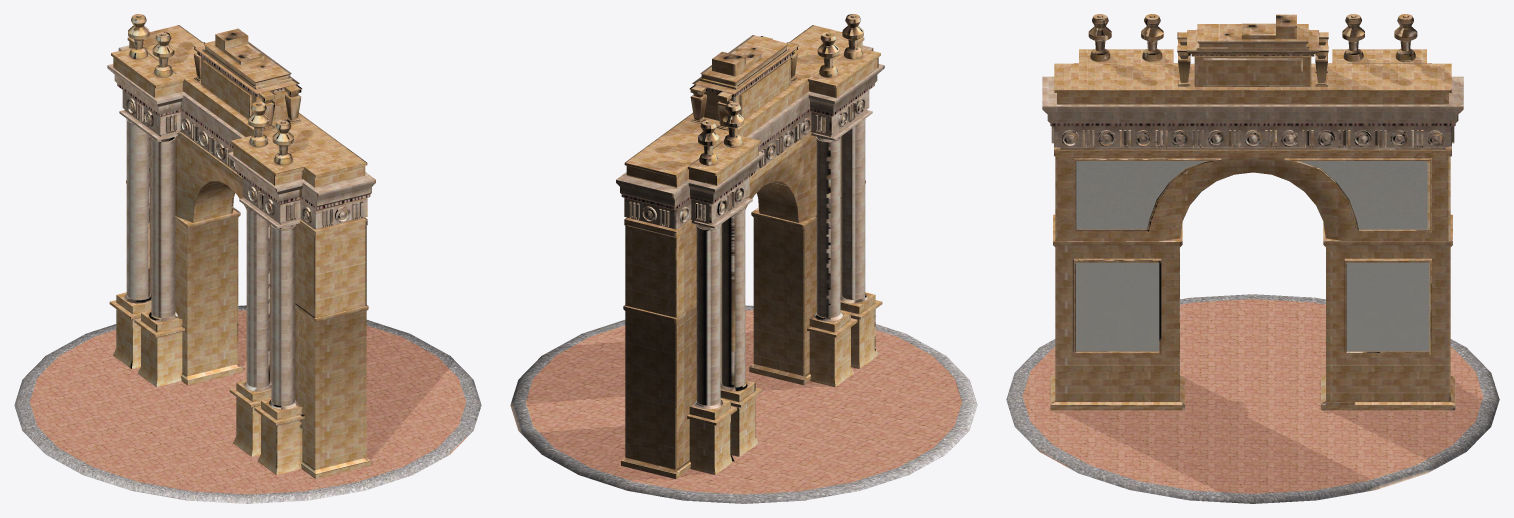
Rendered from sinleon.gltf.
The picture shows the model from 3 angles, left to right: view 1: azimuth 30°, elevation 25°; view 2: azimuth 150°, elevation 25°; view 3: azimuth 270°, elevation 25°; orthographic projection. The views are drawn at different scales.
Visible parts, largest first — view 1: OG_BaseArco; view 2: OG_BaseArco; view 3: OG_BaseArco.
Part boxes in pixels (left/top/right/bottom): OG_BaseArco: left=14, top=14, right=481, bottom=503; OG_BaseArco: left=510, top=14, right=977, bottom=503; OG_BaseArco: left=1006, top=14, right=1499, bottom=503.
Size of the model in its own units: 412 by 349 by 412.
1 material, 1 textured.
